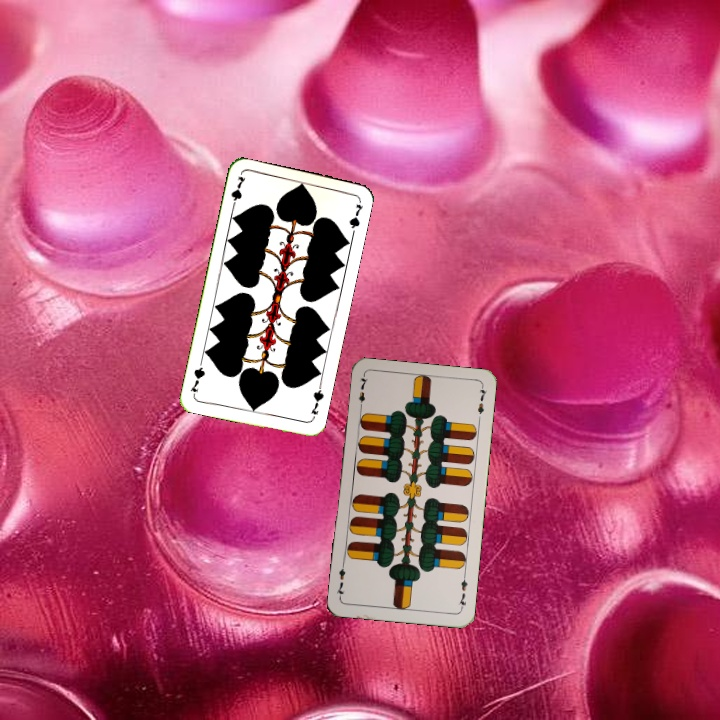E7: (354, 372, 370, 413), (455, 571, 470, 612)
G7: (227, 172, 248, 212), (306, 382, 326, 417)
